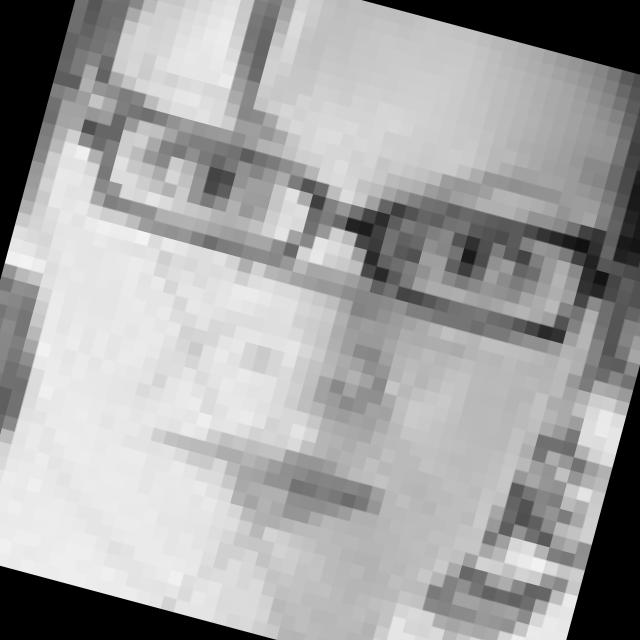neutral: (8, 56, 583, 589)
